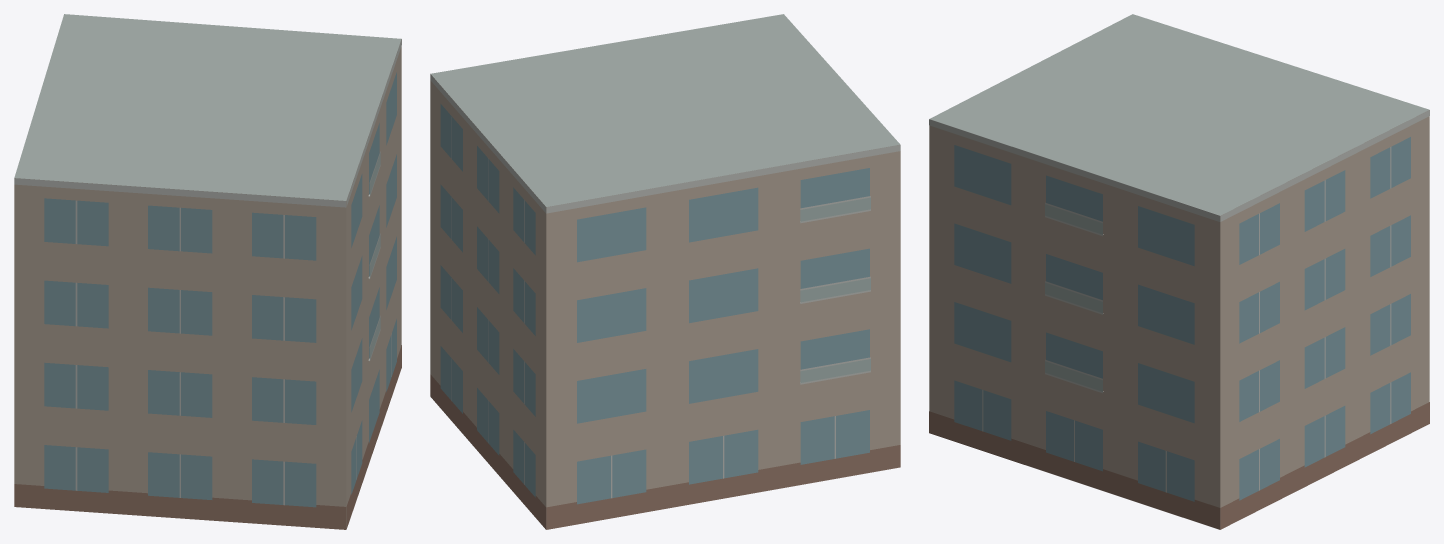
Rendered from survey-upis-32491894.glb.
The picture shows the model from 3 angles, left to right: view 1: azimuth 30°, elevation 25°; view 2: azimuth 150°, elevation 25°; view 3: azimuth 270°, elevation 25°; orthographic projection. The views are drawn at different scales.
Parts seen in each view (by area): view 1: survey-upis-32491894.tmp; view 2: survey-upis-32491894.tmp; view 3: survey-upis-32491894.tmp.
Part boxes in pixels (left/top/right/bottom): survey-upis-32491894.tmp: left=14, top=14, right=401, bottom=529; survey-upis-32491894.tmp: left=430, top=14, right=900, bottom=529; survey-upis-32491894.tmp: left=929, top=14, right=1429, bottom=529.
Bounding box in the file's own units: 16.83 × 12.2 × 17.63.
